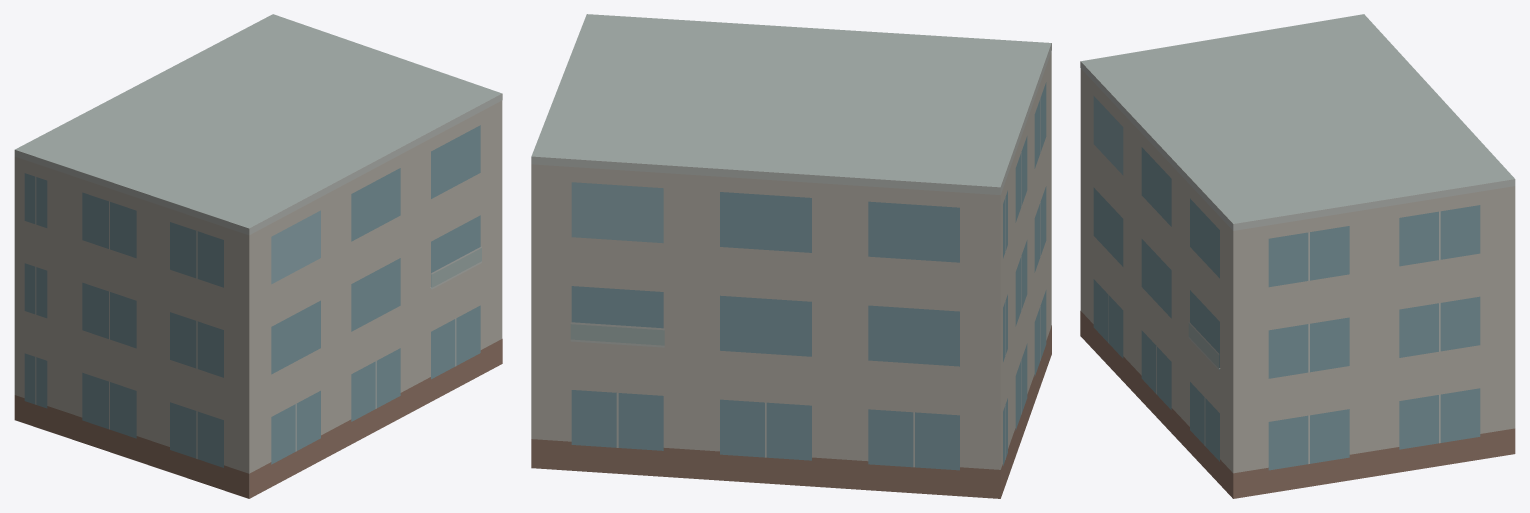
Rendered from survey-upis-33000166.glb.
3 views of the same model, side by side, from view 1: azimuth 30°, elevation 25°; view 2: azimuth 150°, elevation 25°; view 3: azimuth 270°, elevation 25° (orthographic). The views are drawn at different scales.
Parts seen in each view (by area): view 1: survey-upis-33000166.tmp; view 2: survey-upis-33000166.tmp; view 3: survey-upis-33000166.tmp.
Boxes of the visible parts, x1,y1,x2,y2 form: survey-upis-33000166.tmp: [14, 14, 502, 498]; survey-upis-33000166.tmp: [531, 14, 1051, 498]; survey-upis-33000166.tmp: [1080, 14, 1515, 498].
Bounding box in the file's own units: 15.91 × 9.7 × 13.92.
